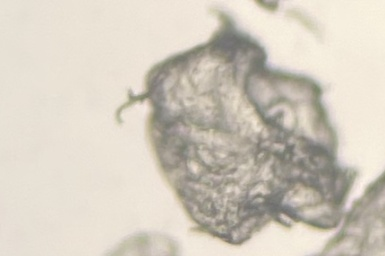microplastic: (116, 8, 358, 246), (305, 166, 384, 256), (99, 230, 183, 256), (253, 1, 280, 12)
